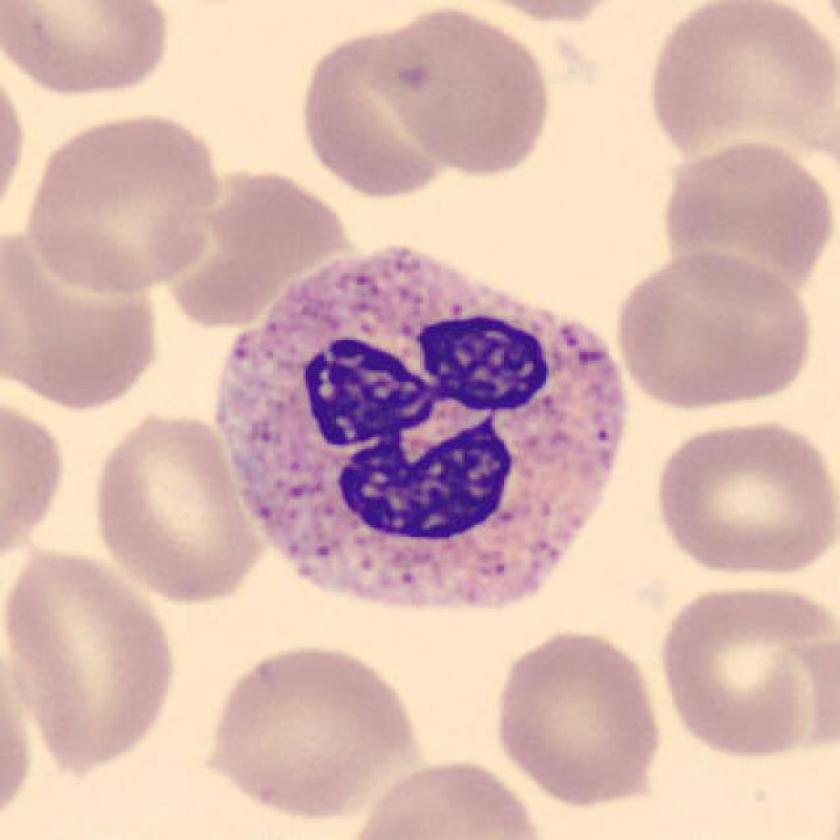neutrophil: (219, 245, 627, 607)
